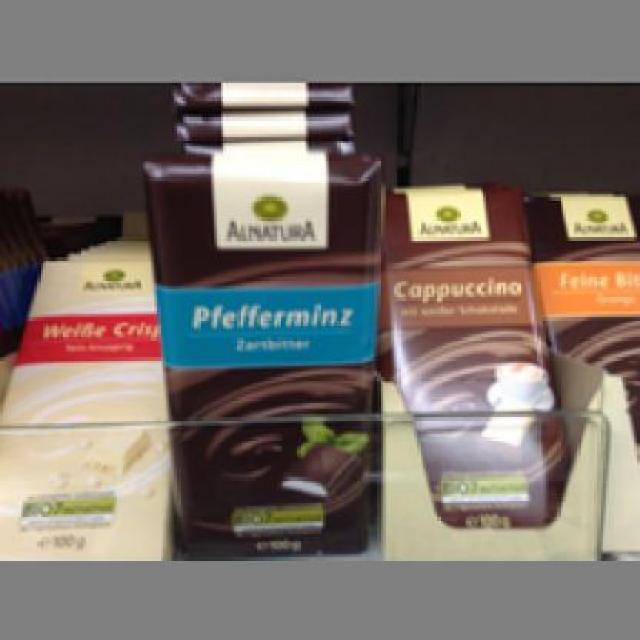Chocolate: (140, 148, 380, 548), (374, 183, 557, 526), (0, 257, 160, 557), (534, 188, 637, 428)
